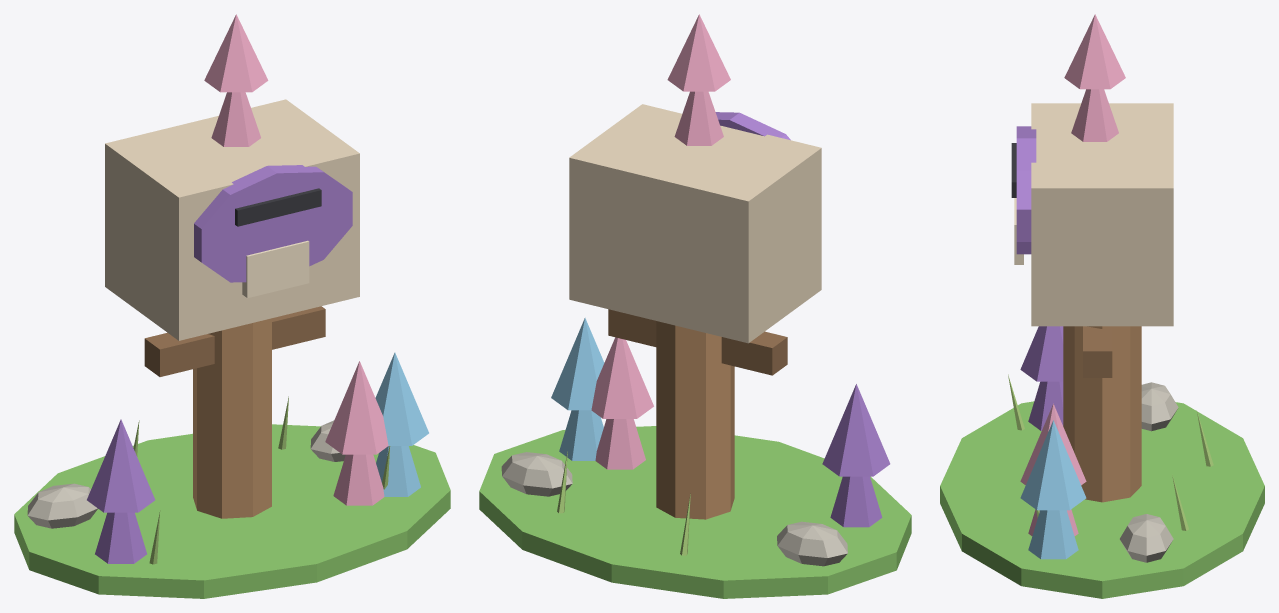
3 renders of one model, left to right at view 1: azimuth 30°, elevation 25°; view 2: azimuth 150°, elevation 25°; view 3: azimuth 270°, elevation 25°, orthographic. The views are drawn at different scales.
Visible parts, largest first — view 1: round grass base, cream crystal mailbox, wooden post, purple arch trim, cross supports, base crystal-0.62 top, base crystal0.46 top, letter flap, base crystal0.62 top, top pink crystal top, small rock.001, base crystal-0.62 bottom (+5 smaller); view 2: cream crystal mailbox, round grass base, wooden post, cross supports, base crystal-0.62 top, base crystal0.46 top, base crystal0.62 top, top pink crystal top, small rock.001, small rock, base crystal-0.62 bottom, base crystal0.46 bottom (+3 smaller); view 3: round grass base, cream crystal mailbox, wooden post, base crystal0.62 top, top pink crystal top, purple arch trim, base crystal-0.62 top, base crystal0.62 bottom, small rock, top pink crystal bottom, cross supports, small rock.001 (+2 smaller).
Boxes of the visible parts, x1,y1,x2,y2 form: round grass base: (14,424,450,598); cream crystal mailbox: (105,99,359,340); wooden post: (193,318,271,518); purple arch trim: (194,165,352,282); cross supports: (144,306,325,376); base crystal-0.62 top: (87,419,155,512); base crystal0.46 top: (325,361,388,454); letter flap: (242,240,309,298); base crystal0.62 top: (375,352,428,445); top pink crystal top: (204,14,268,92); small rock.001: (27,483,97,528); base crystal-0.62 bottom: (95,512,146,563); cream crystal mailbox: (569,104,821,343); round grass base: (479,426,911,598); wooden post: (656,321,734,519); cross supports: (608,309,787,375); base crystal-0.62 top: (822,384,890,476); base crystal0.46 top: (591,337,653,418); base crystal0.62 top: (551,317,604,410); top pink crystal top: (667,14,730,91); small rock.001: (777,521,847,566); small rock: (501,452,572,496); base crystal-0.62 bottom: (830,476,882,527); base crystal0.46 bottom: (595,419,645,469); round grass base: (940,401,1264,598); cream crystal mailbox: (1031,103,1173,326); wooden post: (1063,326,1141,502); base crystal0.62 top: (1020,420,1086,510); top pink crystal top: (1064,14,1125,89); purple arch trim: (1016,126,1036,254); base crystal-0.62 top: (1020,326,1063,381); base crystal0.62 bottom: (1028,510,1078,559); small rock: (1119,514,1173,562); top pink crystal bottom: (1071,89,1118,141); cross supports: (1083,326,1112,377); small rock.001: (1141,382,1178,431).
Size of the model in its own units: 1.84 by 2.22 by 1.32.
